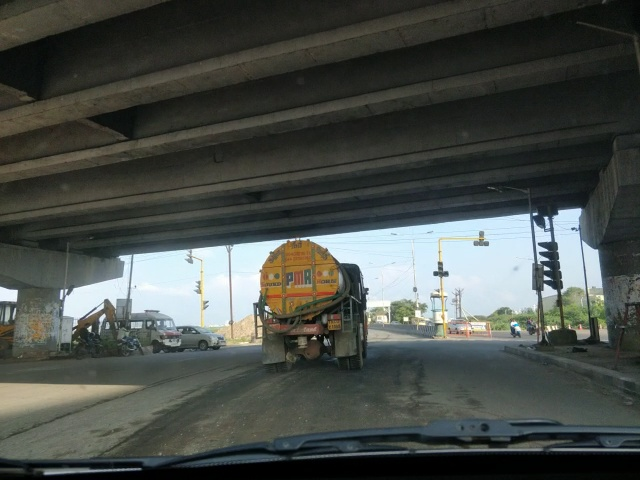car: (177, 324, 229, 349)
motorbike: (507, 317, 525, 341)
truck: (261, 242, 373, 367)
vehicle: (123, 310, 177, 349)
